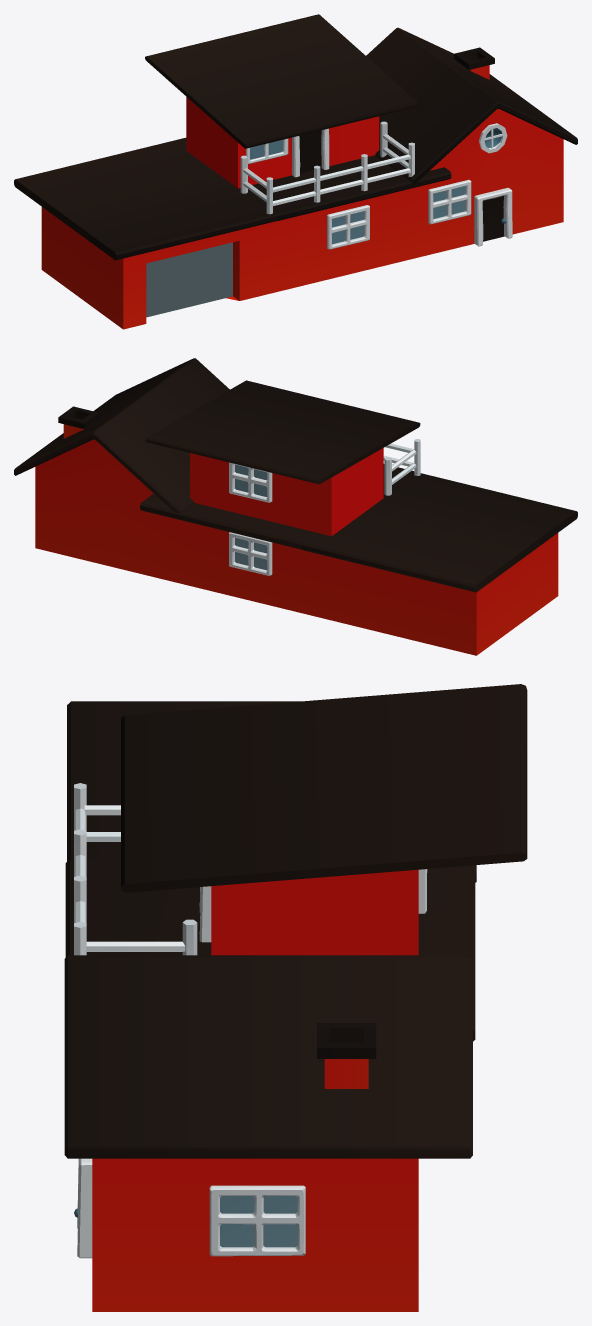
File: HouseBig.fbx
3 views of the same model, one above another, from view 1: azimuth 30°, elevation 25°; view 2: azimuth 150°, elevation 25°; view 3: azimuth 270°, elevation 25° (orthographic). The views are drawn at different scales.
Visible parts, largest first — view 1: HouseBig_LOD0; view 2: HouseBig_LOD0; view 3: HouseBig_LOD0.
Boxes of the visible parts, x1,y1,x2,y2 form: HouseBig_LOD0: (14,14,577,329); HouseBig_LOD0: (14,358,577,655); HouseBig_LOD0: (64,684,527,1311).
Size of what is drawn, in the model's own units: 975 by 329 by 423.
